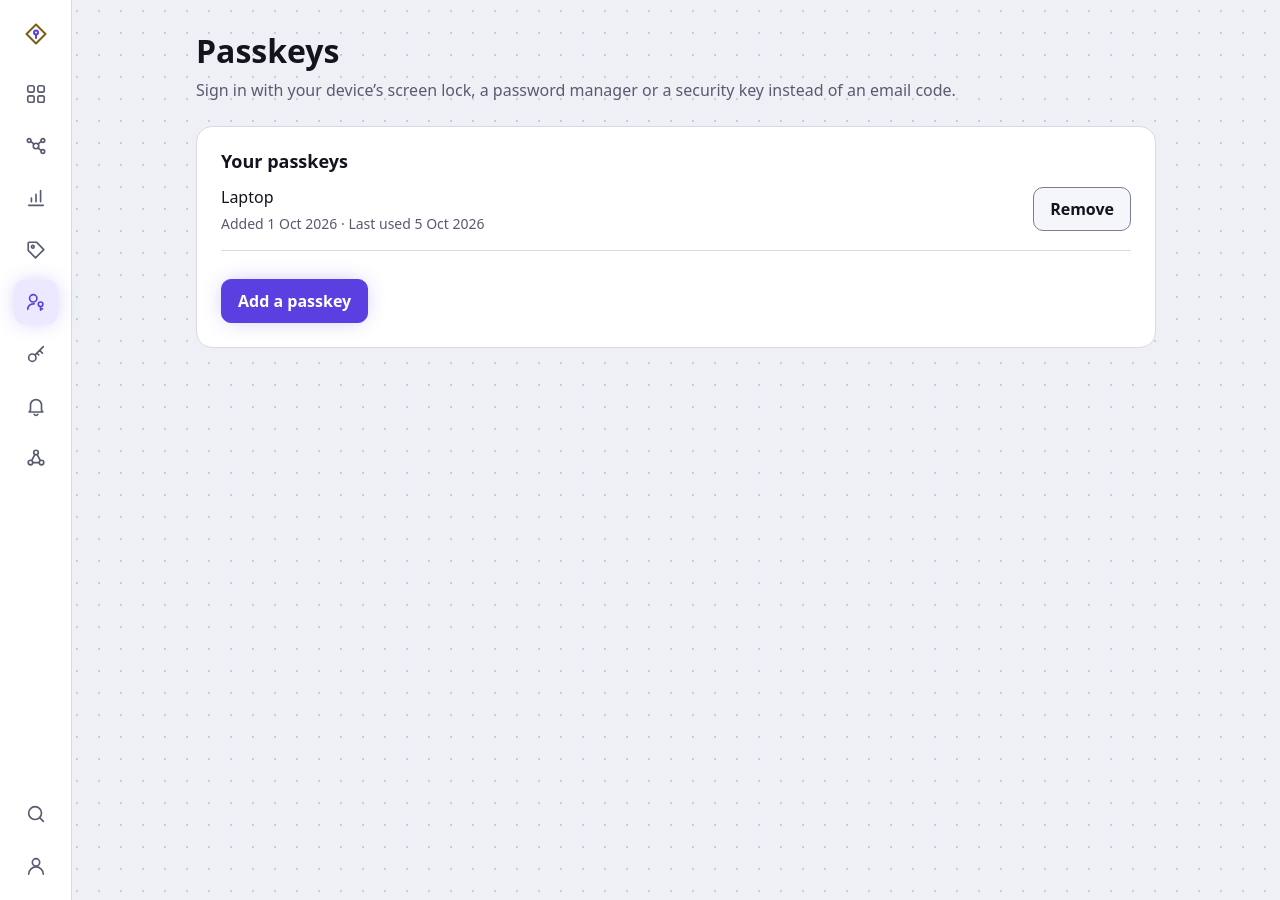
Test: passkeys page › lists, adds and removes passkeys
Expected: the text "Laptop" is shown, [221,186,274,208]
Expected: the text "Added 1 Oct 2026 · Last used 5 Oct 2026" is shown, [221,213,484,234]
Click the button "Add a passkey": (295, 301) [221,279,368,323]
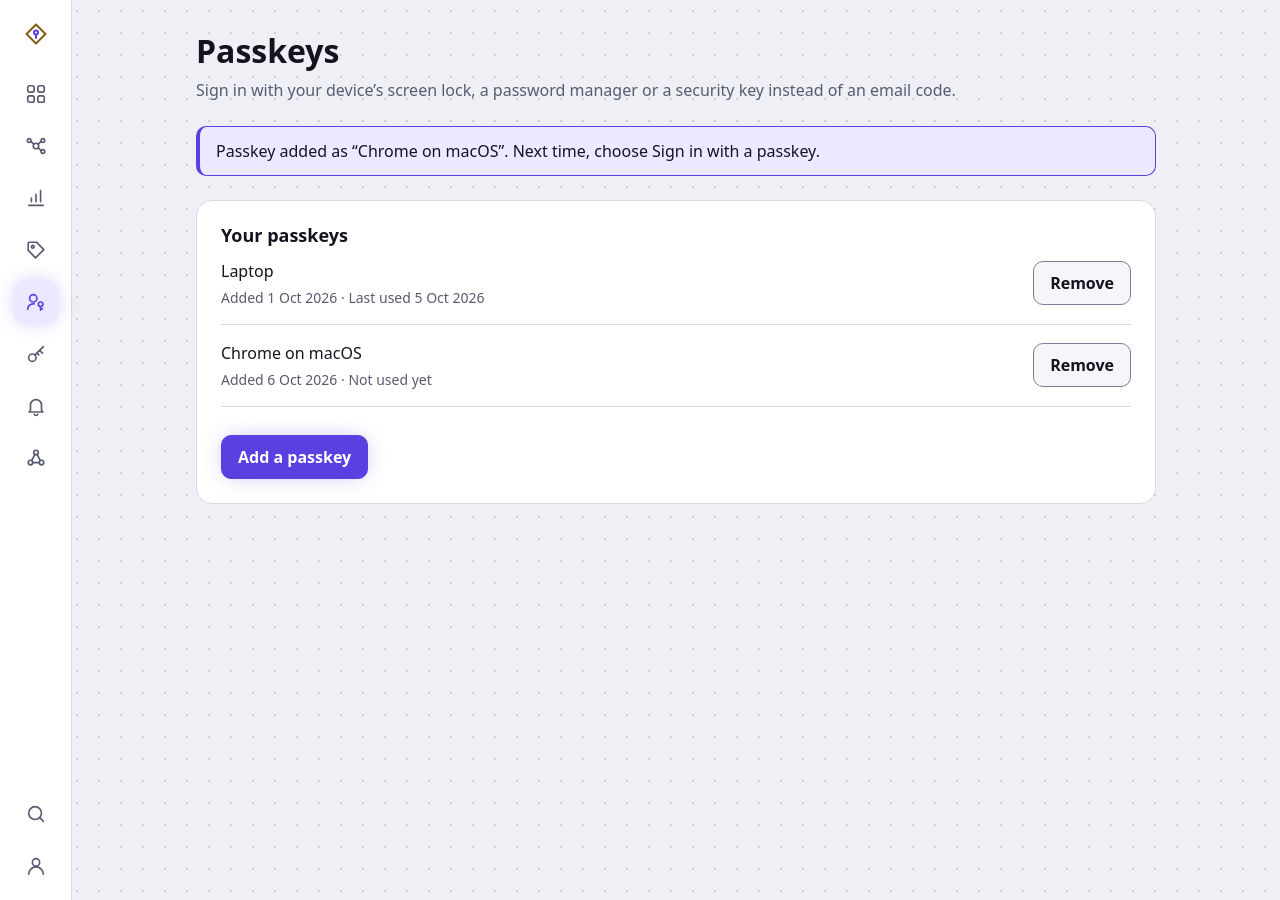
Now the text "Chrome on macOS" is shown, box [221,342,362,364]
Now the text "Passkey added as “Chrome on macOS”. Next time, choose Sign in with a passkey." is shown, box [196,126,1156,176]
Now the text "Added 6 Oct 2026 · Not used yet" is shown, box [221,369,432,390]
Click the button with aria-label "Remove Laptop": (1082, 284) [1033,262,1131,306]
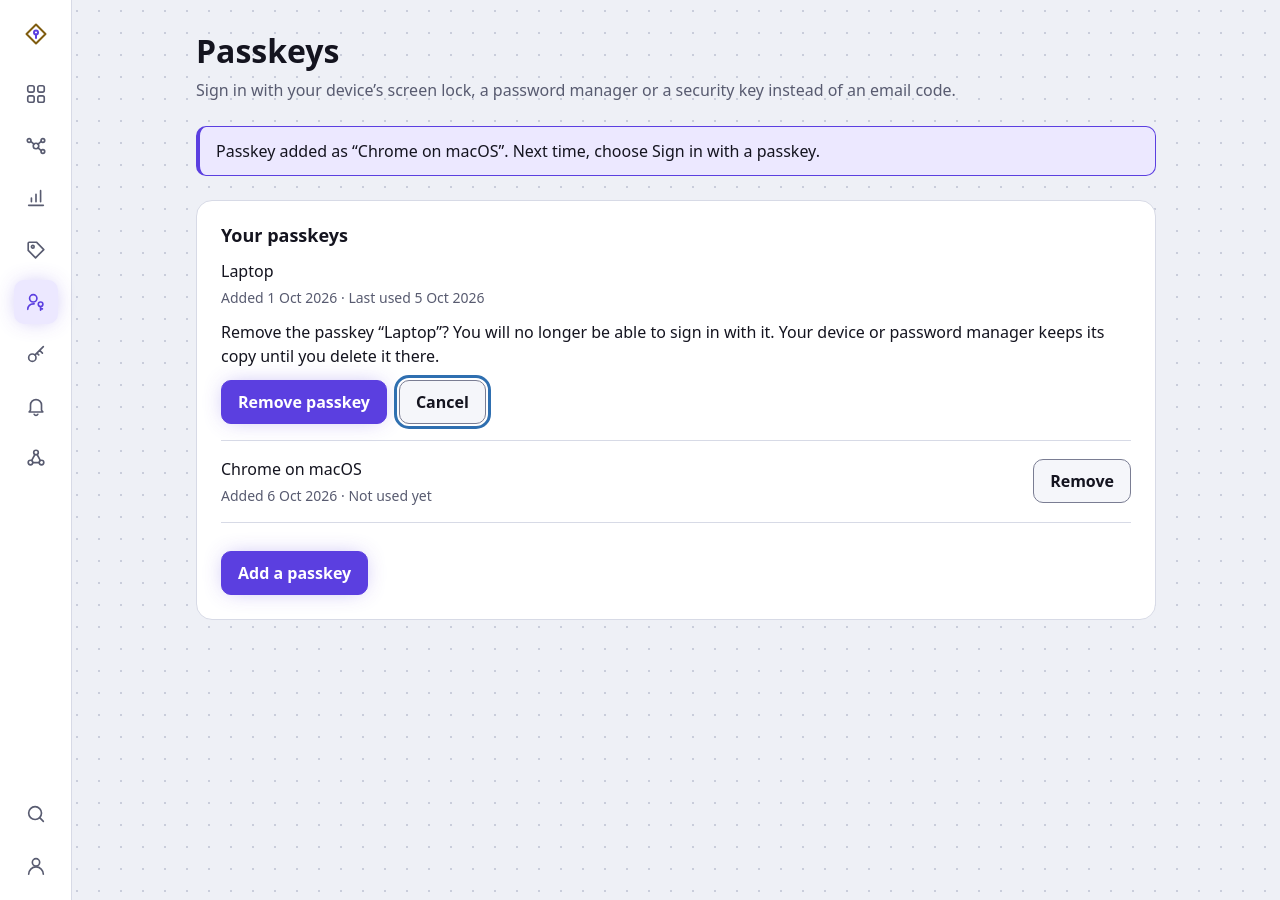
Now the text "Remove the passkey “Laptop”?" is shown, box [221,320,1131,368]
Click the button "Remove passkey": (304, 402) [221,380,387,424]
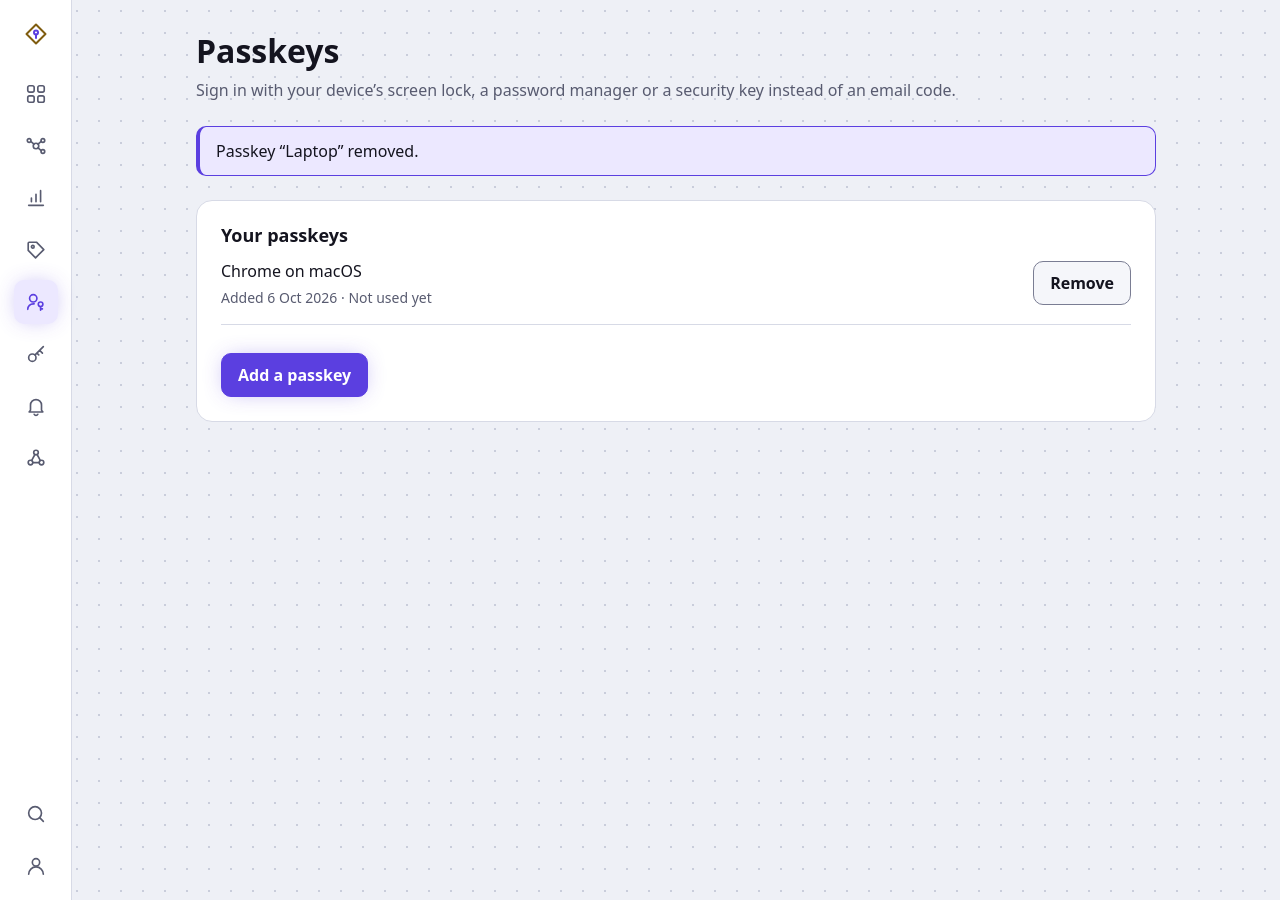
Now the text "Chrome on macOS" is shown, box [221,260,362,282]
Now the text "Passkey “Laptop” removed." is shown, box [196,126,1156,176]
